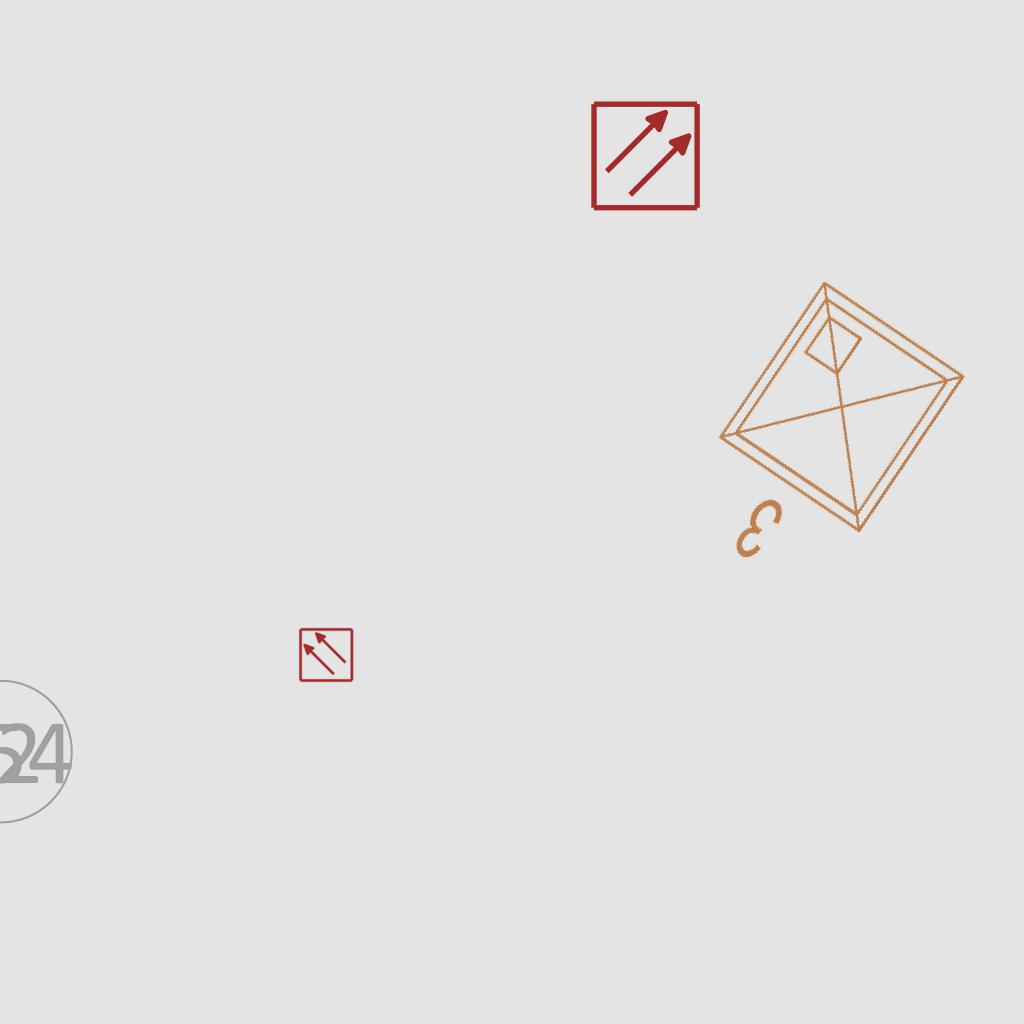Einbaudownlights_LED_Konferenzraeume: (651, 260, 993, 626)
RMO_Rauchmelder_optischer: (589, 99, 702, 212), (298, 627, 354, 683)
